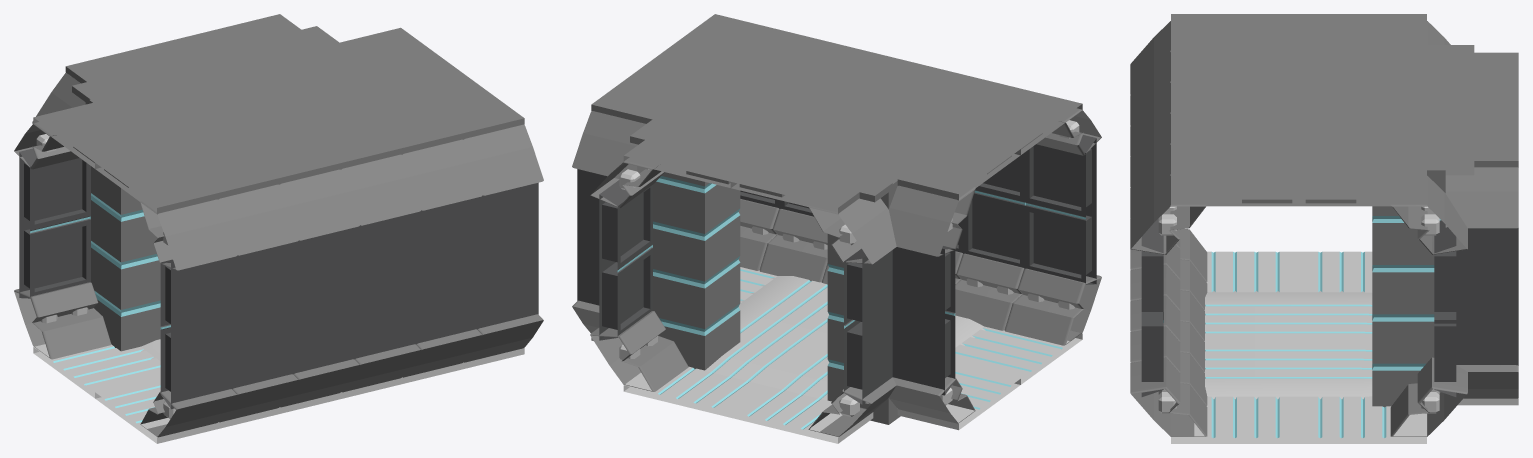
File: Tunnel T.fbx
3 renders of one model, left to right at view 1: azimuth 30°, elevation 25°; view 2: azimuth 150°, elevation 25°; view 3: azimuth 270°, elevation 25°, orthographic. The views are drawn at different scales.
Visible parts, largest first — view 1: Tunnel.004; view 2: Tunnel.004; view 3: Tunnel.004.
Part boxes in pixels (x1,y1,x2,y2): Tunnel.004: [14, 14, 543, 443]; Tunnel.004: [572, 14, 1101, 443]; Tunnel.004: [1130, 14, 1518, 443].
Size of the model in its own units: 1200 by 746 by 1061.
